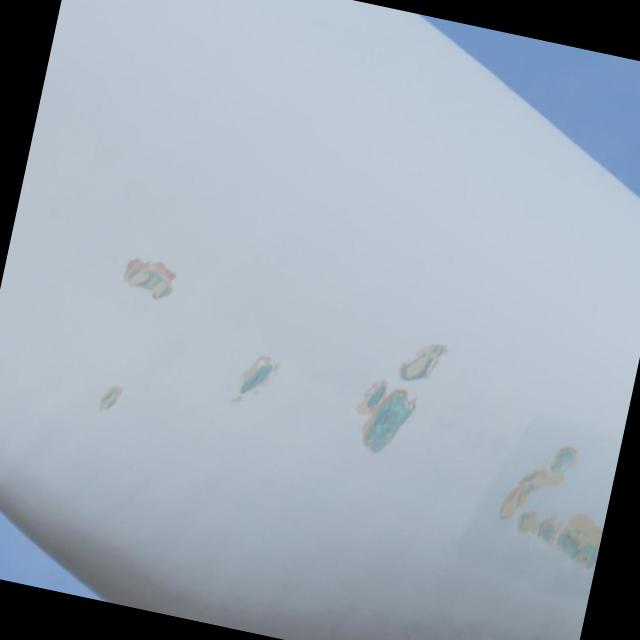corrosion: (489, 430, 619, 570), (110, 248, 182, 306)
surface_peeling: (340, 327, 450, 465), (236, 353, 280, 408), (91, 382, 124, 414)
